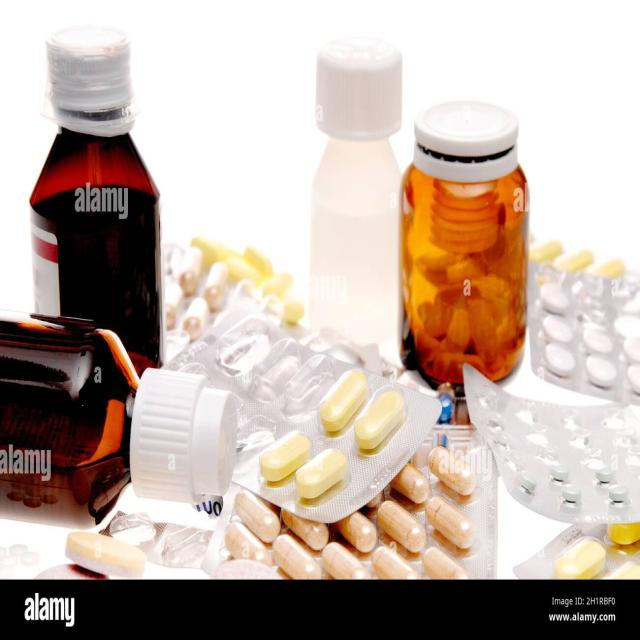B3: (16, 12, 199, 396), (183, 301, 436, 526), (0, 304, 244, 529), (298, 32, 411, 360), (452, 358, 640, 533), (518, 254, 640, 394)
